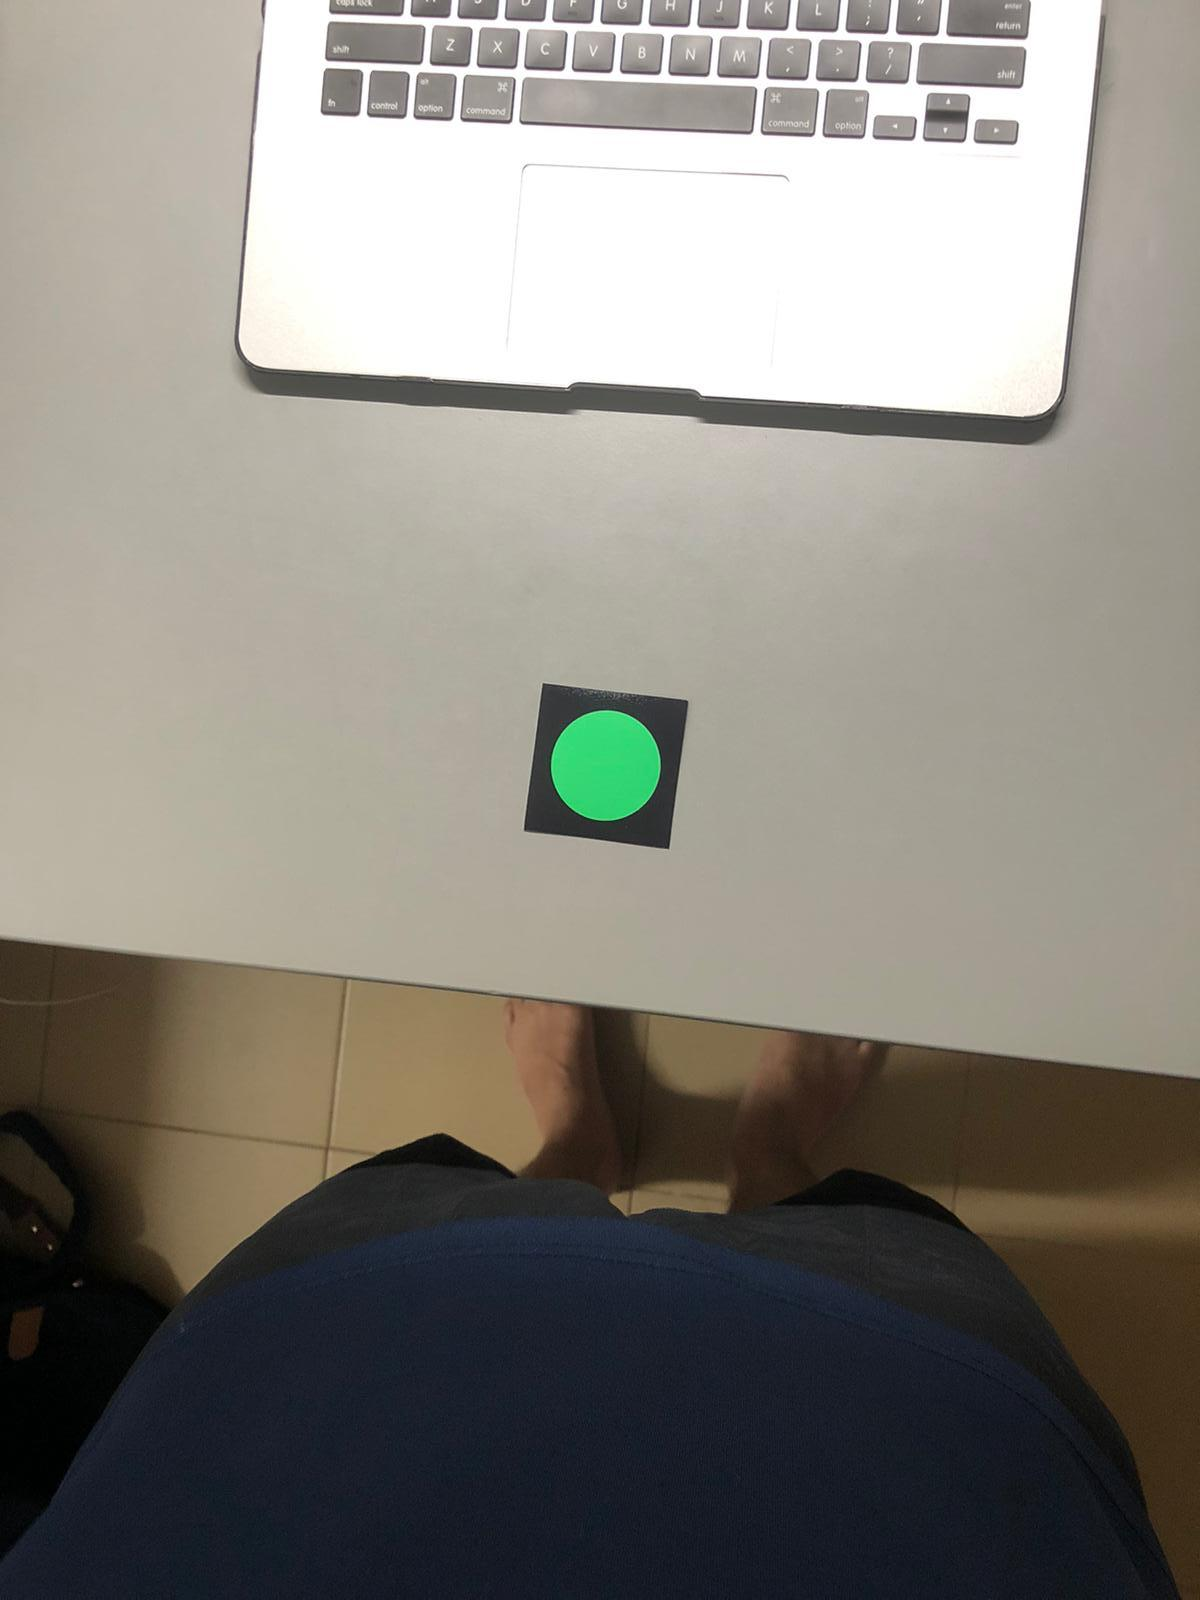Circle: (528, 684, 687, 843)
